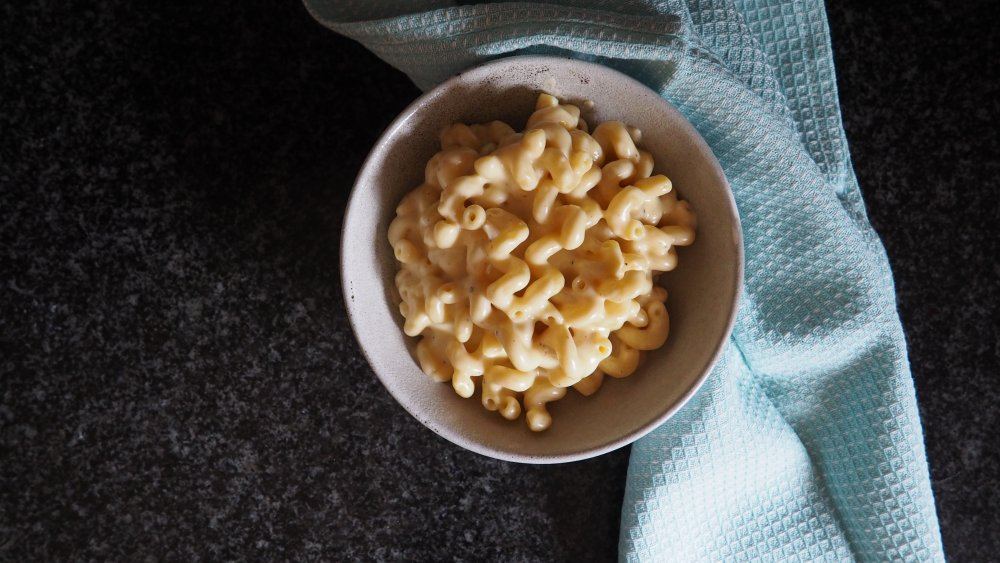cheese: (435, 138, 613, 367)
